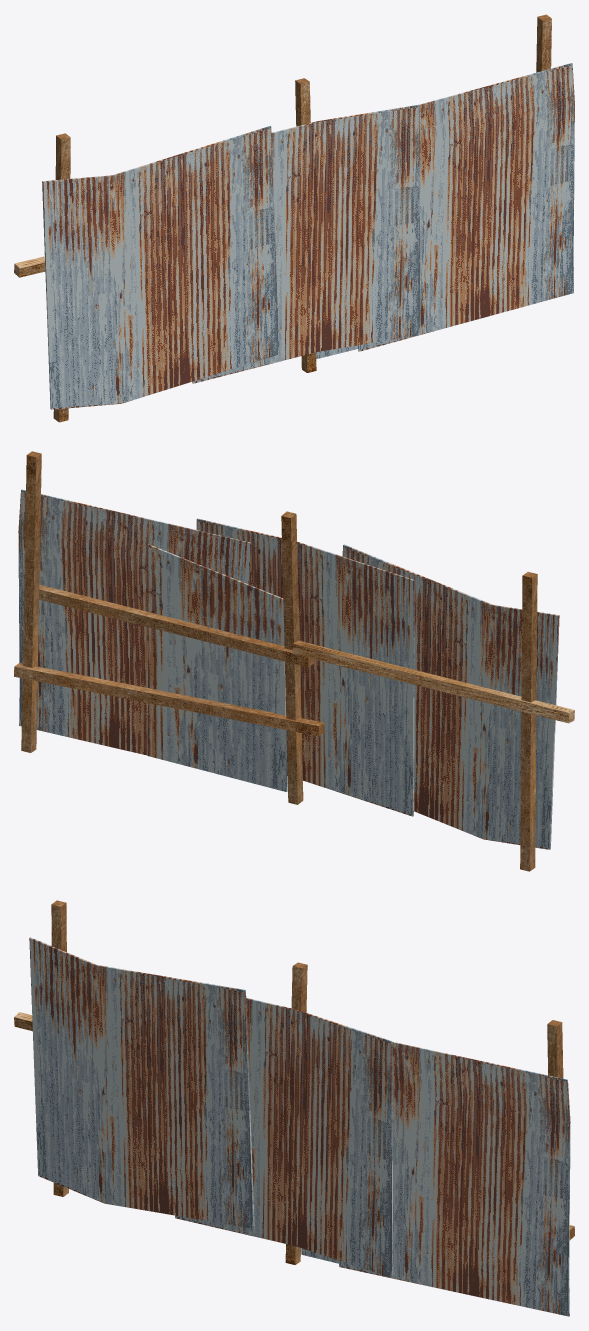
File: Roof Fence v1.glb
3 views of the same model, one above another, from view 1: azimuth 30°, elevation 25°; view 2: azimuth 150°, elevation 25°; view 3: azimuth 330°, elevation 25° (orthographic). The views are drawn at different scales.
Parts seen in each view (by area): view 1: Plane.012, Plane.016, Plane.013, Cube.012, Cube.008, Cube.007; view 2: Plane.012, Plane.013, Plane.016, Plane.014, Cube.011, Cube.007, Cube.008, Cube.009, Cube.006, Cube.012; view 3: Plane.012, Plane.016, Plane.013, Cube.012, Cube.008, Cube.007.
Part boxes in pixels (bbox=[...]): Plane.012: bbox=[42, 126, 279, 409]; Plane.016: bbox=[358, 63, 574, 351]; Plane.013: bbox=[192, 104, 420, 383]; Cube.012: bbox=[295, 78, 316, 372]; Cube.008: bbox=[53, 133, 70, 422]; Cube.007: bbox=[536, 14, 551, 72]; Plane.012: bbox=[342, 544, 559, 849]; Plane.013: bbox=[196, 518, 414, 816]; Plane.016: bbox=[18, 489, 251, 755]; Plane.014: bbox=[147, 544, 287, 791]; Cube.011: bbox=[14, 663, 324, 736]; Cube.007: bbox=[21, 451, 41, 752]; Cube.008: bbox=[520, 571, 537, 871]; Cube.009: bbox=[292, 640, 574, 723]; Cube.006: bbox=[39, 584, 313, 667]; Cube.012: bbox=[281, 511, 303, 804]; Plane.012: bbox=[29, 937, 254, 1228]; Plane.016: bbox=[339, 1042, 570, 1316]; Plane.013: bbox=[175, 998, 393, 1277]; Cube.012: bbox=[285, 962, 307, 1264]; Cube.008: bbox=[51, 900, 68, 1196]; Cube.007: bbox=[547, 1020, 563, 1078].
Size of the model in its own units: 7.04 by 3.51 by 0.5972.
Materials: 2 (2 with a texture image).
